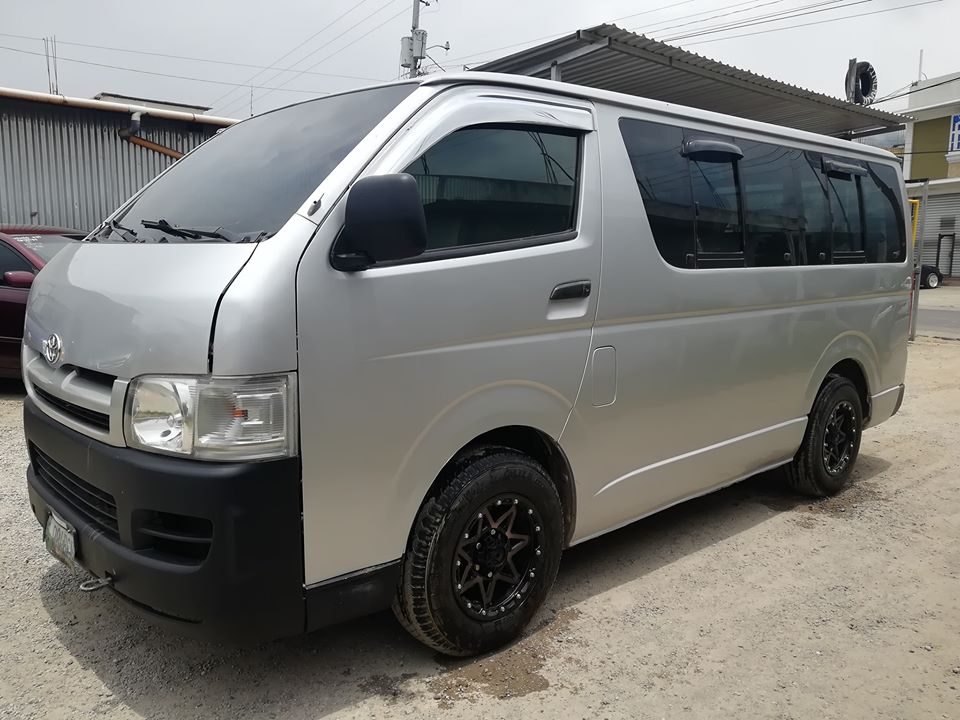bus: (20, 64, 916, 655)
